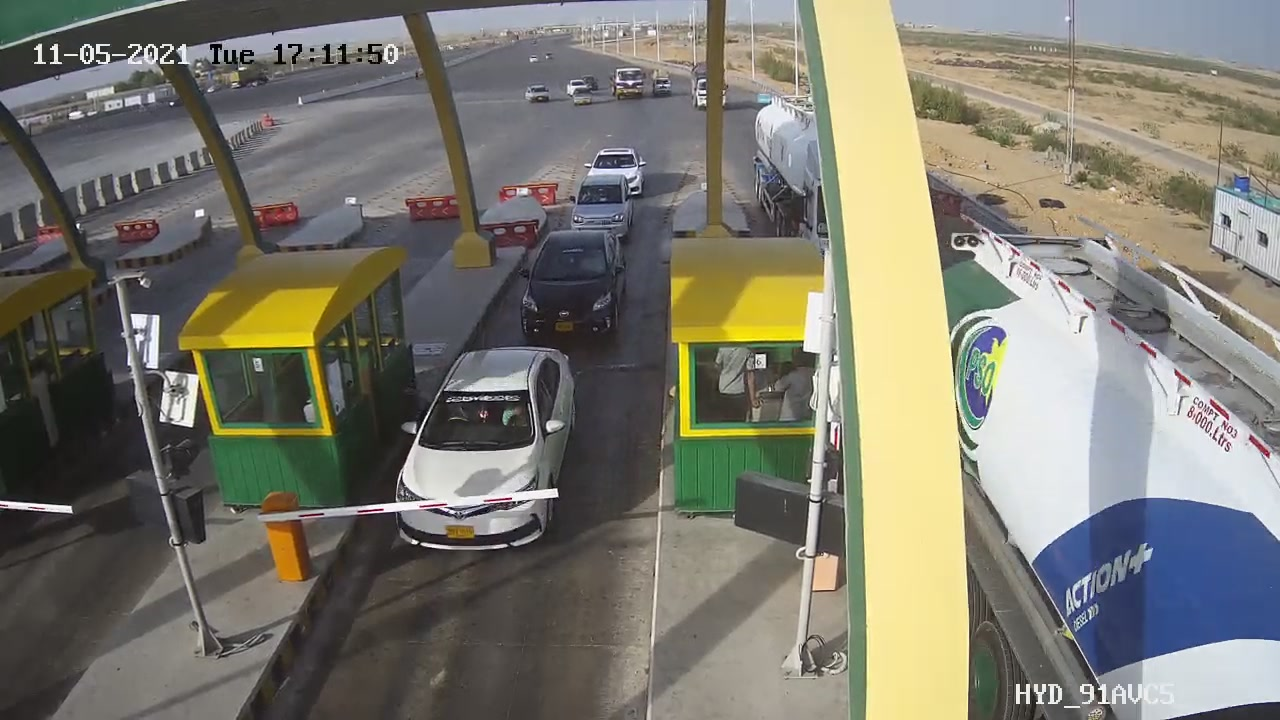F1: (369, 330, 589, 578), (504, 214, 639, 368)
